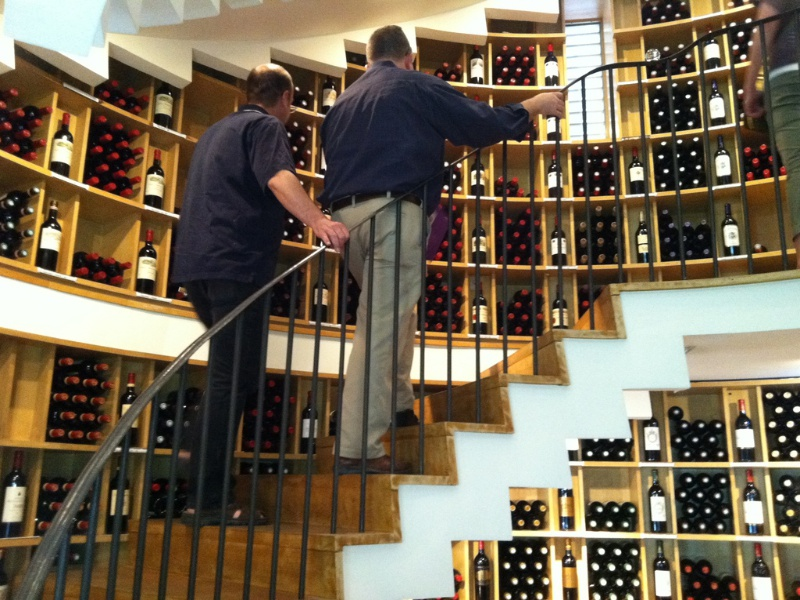wine: (482, 371, 799, 600), (2, 40, 167, 300), (640, 1, 746, 267), (496, 144, 615, 333), (5, 451, 104, 600), (43, 342, 113, 446), (436, 148, 470, 330)
